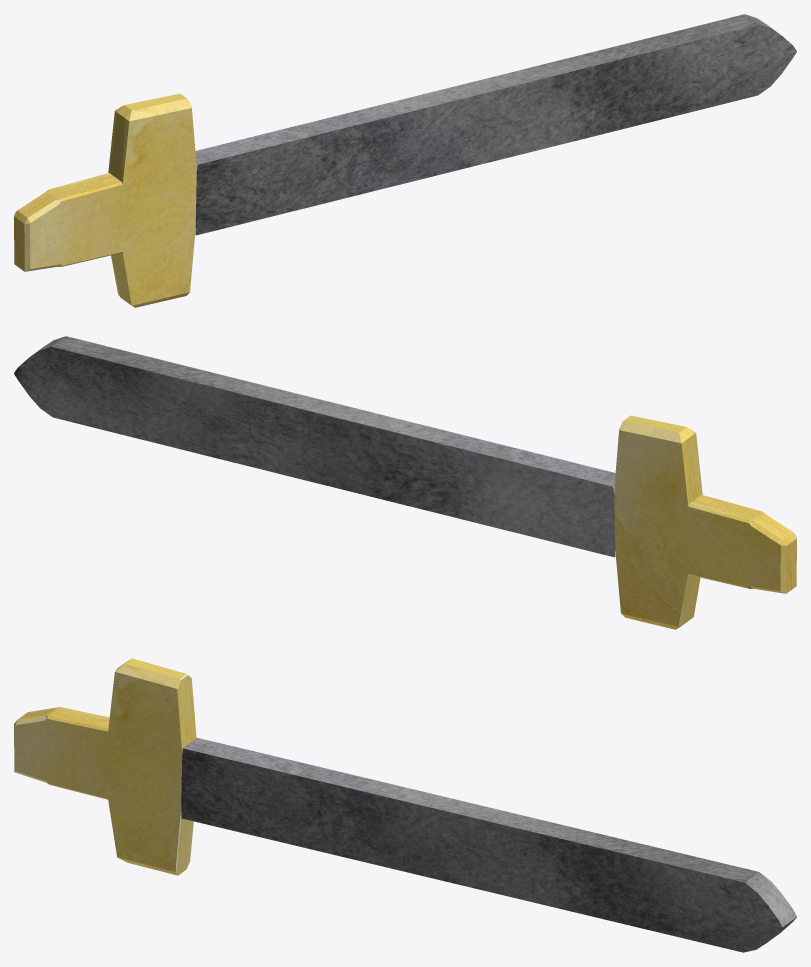
The model's file is espada.obj.
The picture shows the model from 3 angles, top to bottom: view 1: azimuth 30°, elevation 25°; view 2: azimuth 150°, elevation 25°; view 3: azimuth 330°, elevation 25°; orthographic projection.
Parts seen in each view (by area): view 1: Plane; view 2: Plane; view 3: Plane.
Boxes of the visible parts, x1=… form: Plane: x1=14, y1=14, x2=796, y2=307; Plane: x1=14, y1=336, x2=796, y2=629; Plane: x1=14, y1=658, x2=796, y2=952.
Size of the model in its own units: 4.59 by 1.13 by 0.15.
Materials: 2 (2 with a texture image).
